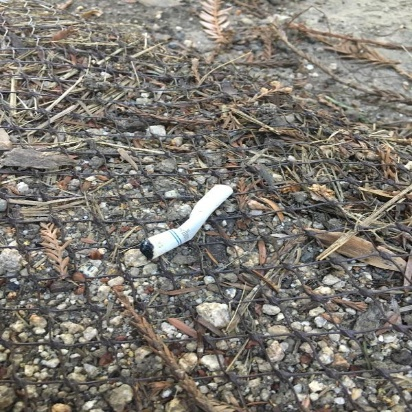cigarette: (142, 181, 239, 254)
